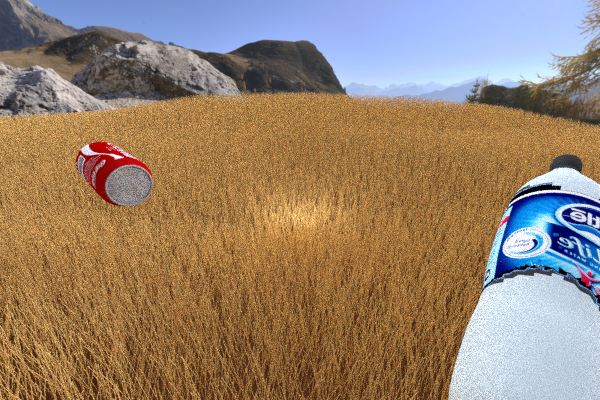bottle: (448, 154, 600, 400)
can: (75, 141, 153, 206)
